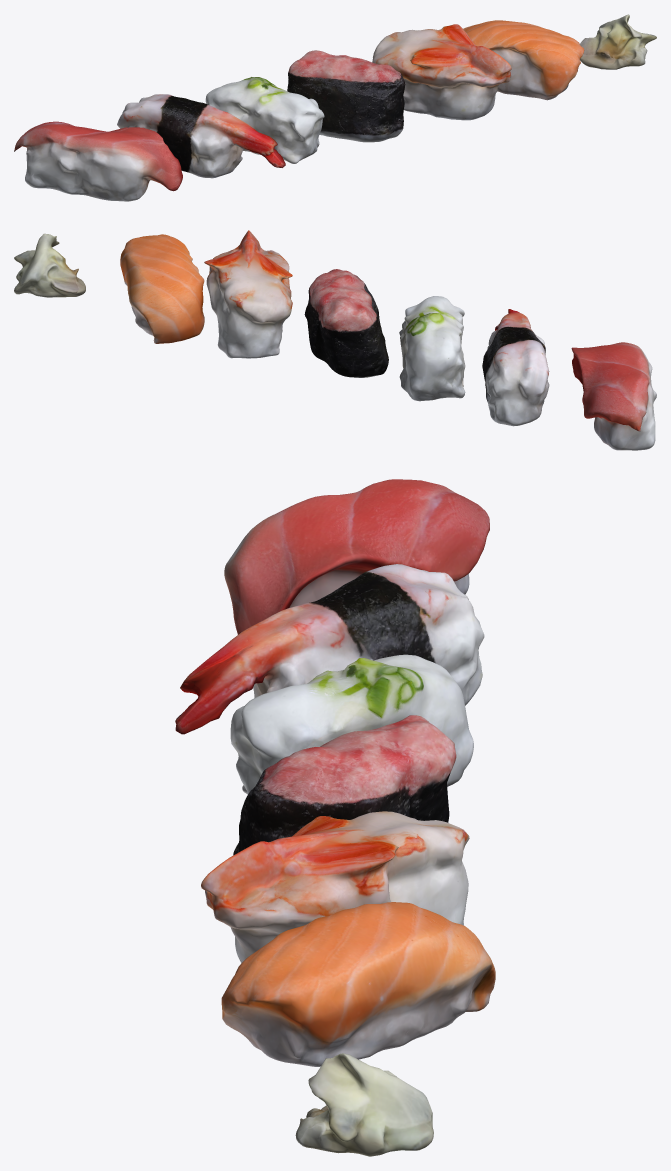
Rendered from sushi02.obj.
3 renders of one model, top to bottom at view 1: azimuth 30°, elevation 25°; view 2: azimuth 150°, elevation 25°; view 3: azimuth 270°, elevation 25°, orthographic. The views are drawn at different scales.
Parts seen in each view (by area): view 1: maguro, ebi2, negitoro, ebi1, Salmon_, engawa, gari; view 2: ebi2, Salmon_, maguro, negitoro, engawa, ebi1, gari; view 3: Salmon_, ebi1, ebi2, maguro, negitoro, engawa, gari.
Part boxes in pixels (<box>): maguro: <box>14,121,182,201</box>; ebi2: <box>372,24,511,120</box>; negitoro: <box>287,50,405,142</box>; ebi1: <box>117,94,285,178</box>; Salmon_: <box>463,20,584,100</box>; engawa: <box>205,77,324,163</box>; gari: <box>580,14,656,69</box>; ebi2: <box>204,230,292,358</box>; Salmon_: <box>120,234,204,343</box>; maguro: <box>571,342,656,450</box>; negitoro: <box>304,269,388,377</box>; engawa: <box>399,296,465,401</box>; ebi1: <box>482,309,549,426</box>; gari: <box>14,233,85,297</box>; Salmon_: <box>221,902,495,1066</box>; ebi1: <box>175,564,484,734</box>; ebi2: <box>201,811,469,962</box>; maguro: <box>224,479,489,634</box>; negitoro: <box>233,715,456,855</box>; engawa: <box>230,654,473,794</box>; gari: <box>295,1053,433,1156</box>.
Bounding box in the file's own units: 30.92 × 3.48 × 7.02.
Materials: 1 (1 with a texture image).
